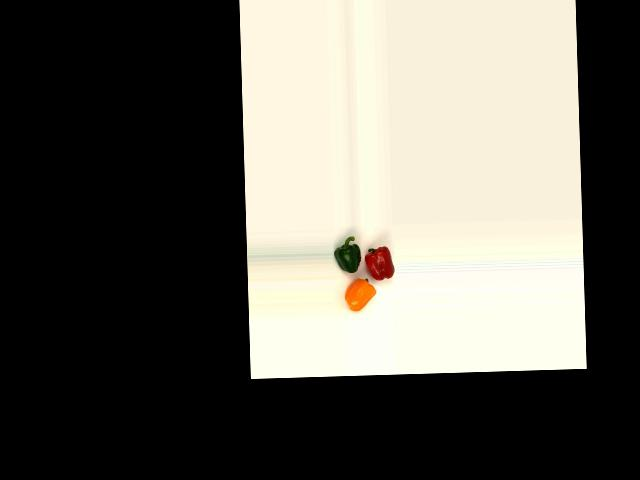bell_pepper: (333, 234, 363, 273)
